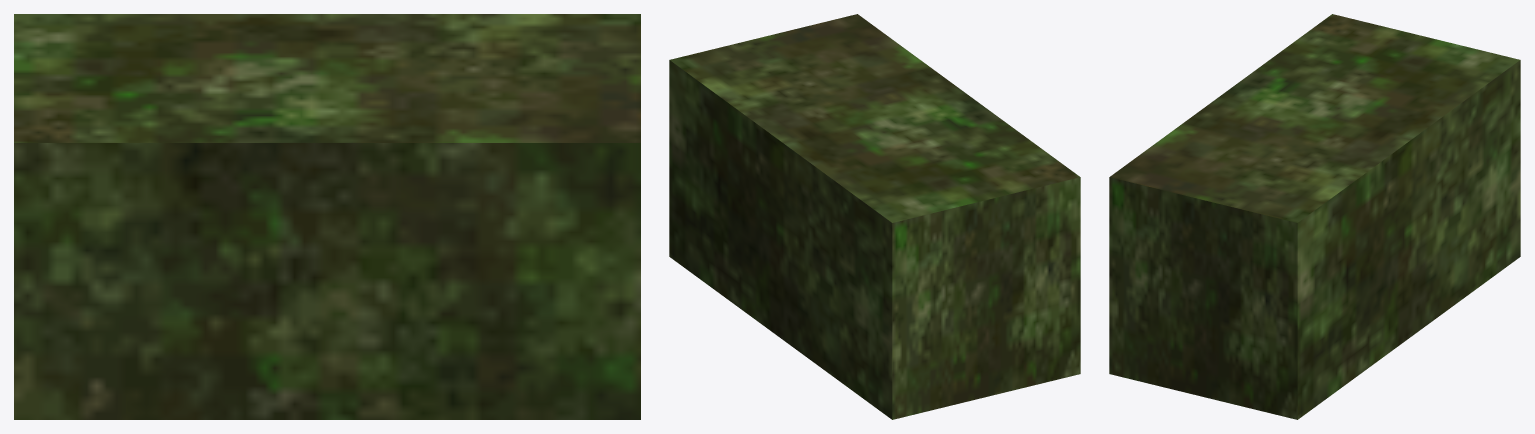
Rendered from OVERHILL_A_01_STONE_BLOCK_14.fbx.
The picture shows the model from 3 angles, left to right: view 1: azimuth 30°, elevation 25°; view 2: azimuth 150°, elevation 25°; view 3: azimuth 270°, elevation 25°; orthographic projection. The views are drawn at different scales.
Visible parts, largest first — view 1: OVERHILL_A_01_STONE_BLOCK_14; view 2: OVERHILL_A_01_STONE_BLOCK_14; view 3: OVERHILL_A_01_STONE_BLOCK_14.
Boxes of the visible parts, x1=… form: OVERHILL_A_01_STONE_BLOCK_14: x1=14, y1=14, x2=640, y2=419; OVERHILL_A_01_STONE_BLOCK_14: x1=669, y1=14, x2=1080, y2=419; OVERHILL_A_01_STONE_BLOCK_14: x1=1109, y1=14, x2=1520, y2=419.
Bounding box in the file's own units: 18014 × 7913 × 14969.
1 material, 1 textured.
